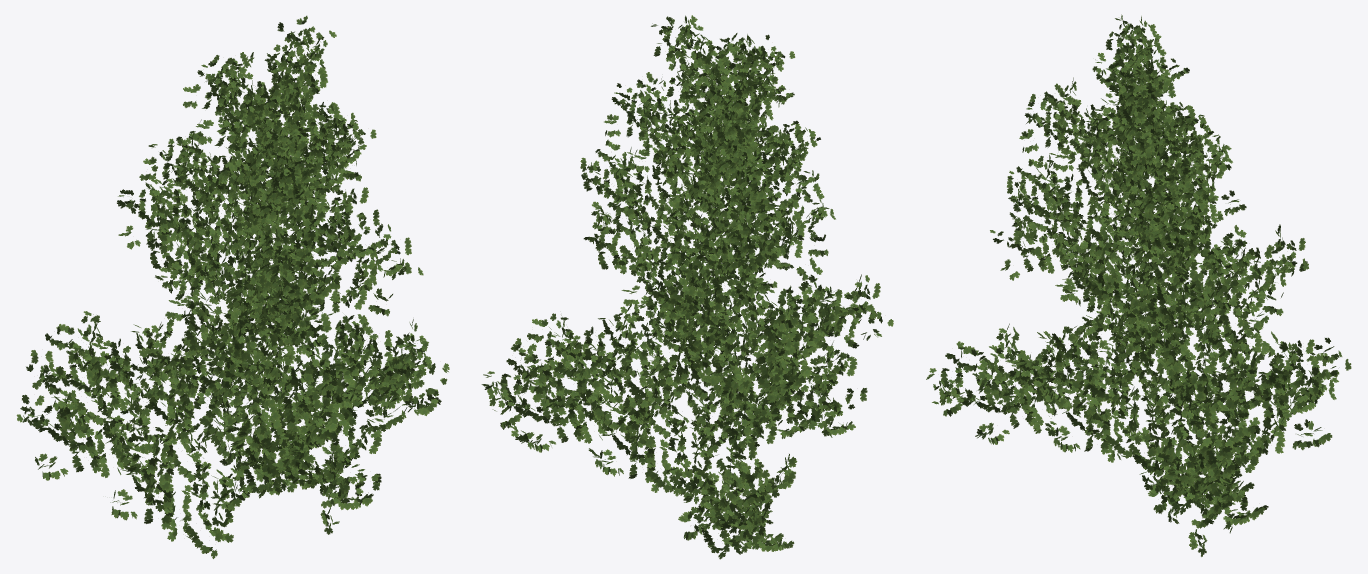
Rendered from MESH_EU01_AcerCampestre_Y_LOD1.fbx.
The picture shows the model from 3 angles, left to right: view 1: azimuth 30°, elevation 25°; view 2: azimuth 150°, elevation 25°; view 3: azimuth 270°, elevation 25°; orthographic projection. The views are drawn at different scales.
Visible parts, largest first — view 1: MI_LOD1_001; view 2: MI_LOD1_001; view 3: MI_LOD1_001.
Part boxes in pixels (x1=…): MI_LOD1_001: x1=16, y1=15, x2=449, y2=558; MI_LOD1_001: x1=481, y1=15, x2=893, y2=559; MI_LOD1_001: x1=926, y1=14, x2=1351, y2=556.
Size of what is drawn, in the model's own units: 199 by 246 by 185.
